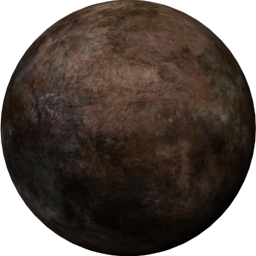planet: (1, 1, 255, 256)
